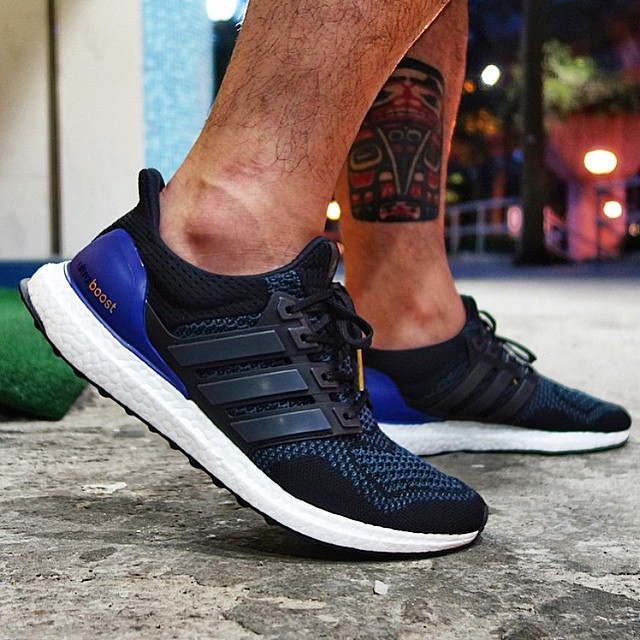sneaker: (6, 147, 505, 580), (300, 279, 635, 461)
